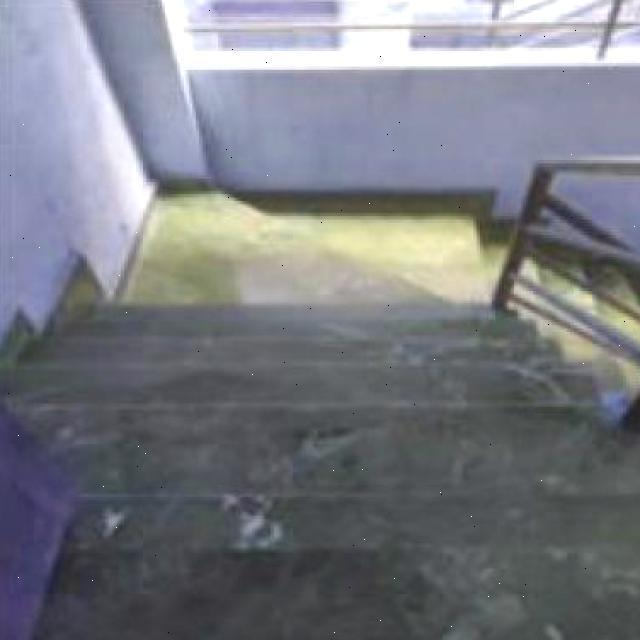stair: (71, 344, 555, 631)
